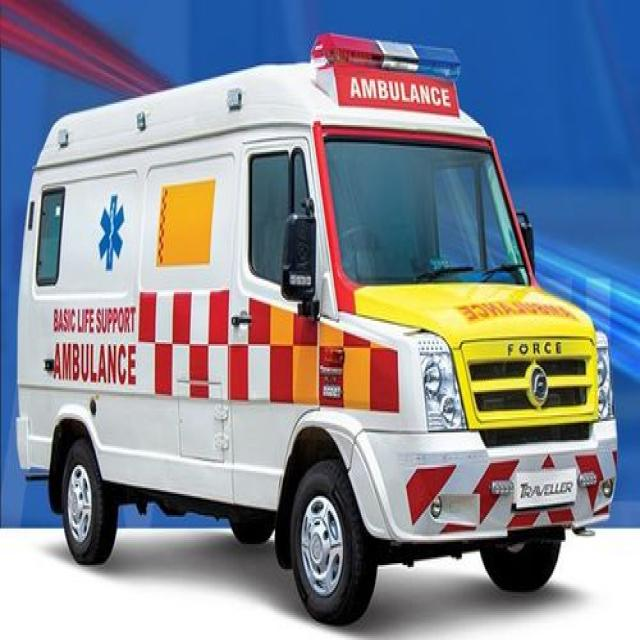emergency: (15, 36, 618, 623)
